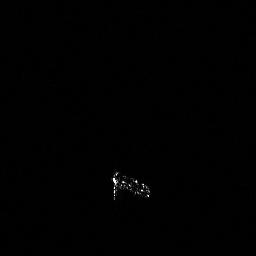ship: (106, 166, 153, 203)
